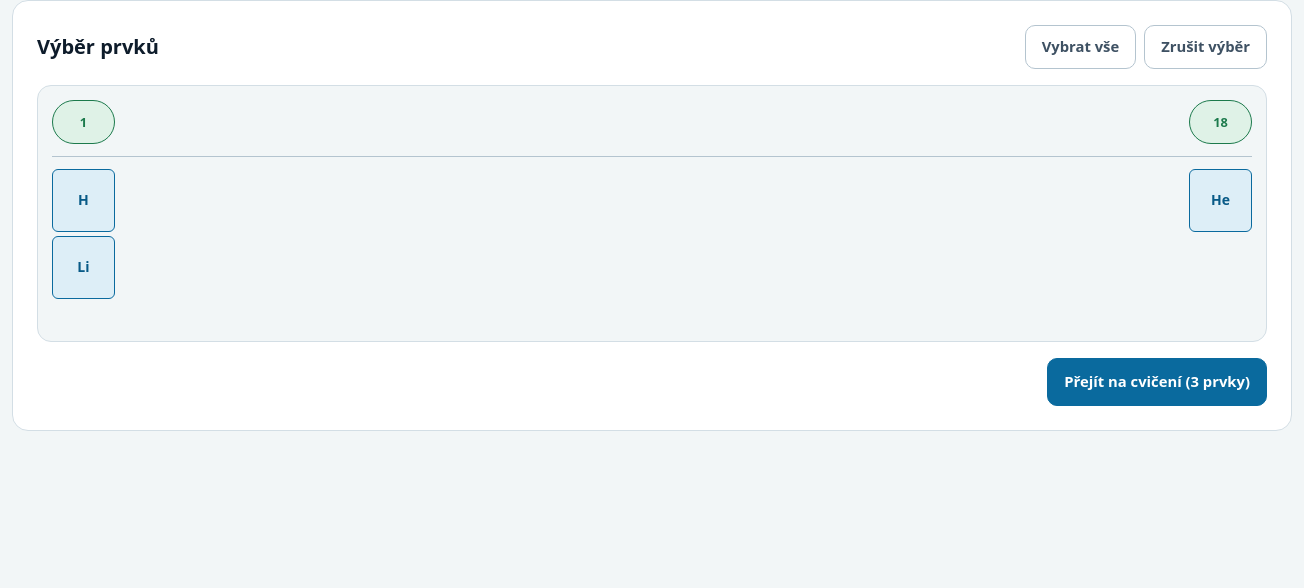
Test case: PeriodicTablePractice › resets the table, the score, and the stopwatch and starts again
This screenshot has width=1304, height=588.
Click the button "Přejít na cvičení (3 prvky)". click: (1157, 382)
box: [1047,358,1267,406]
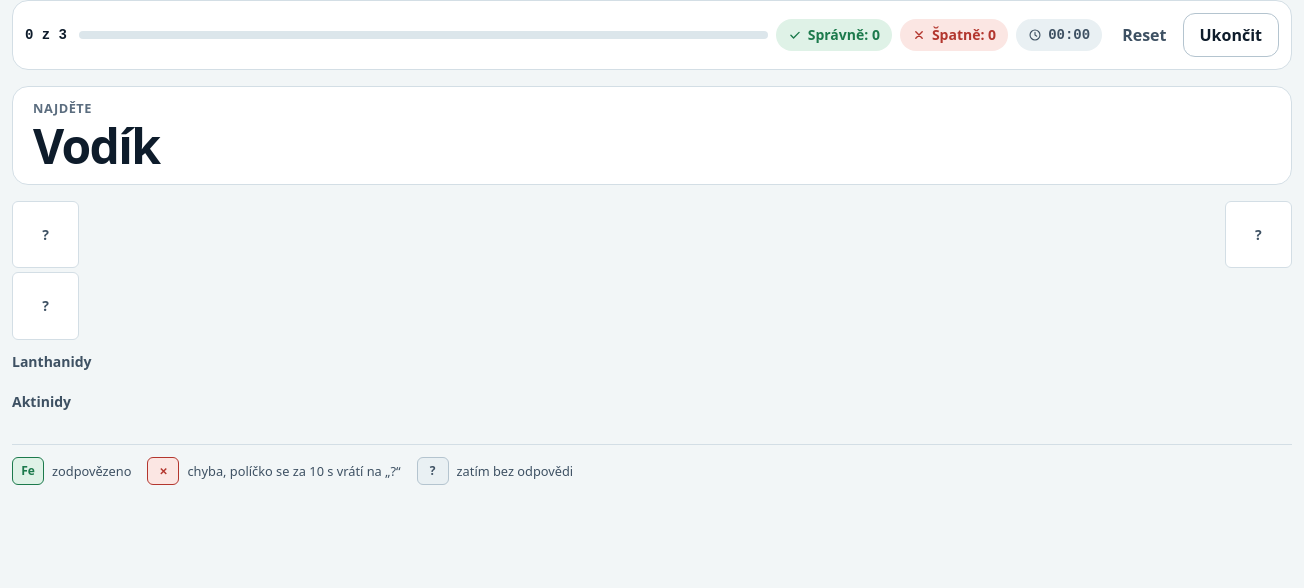
Click the button named "Perioda 1, skupina 1". click: (46, 235)
box: [12,201,79,268]
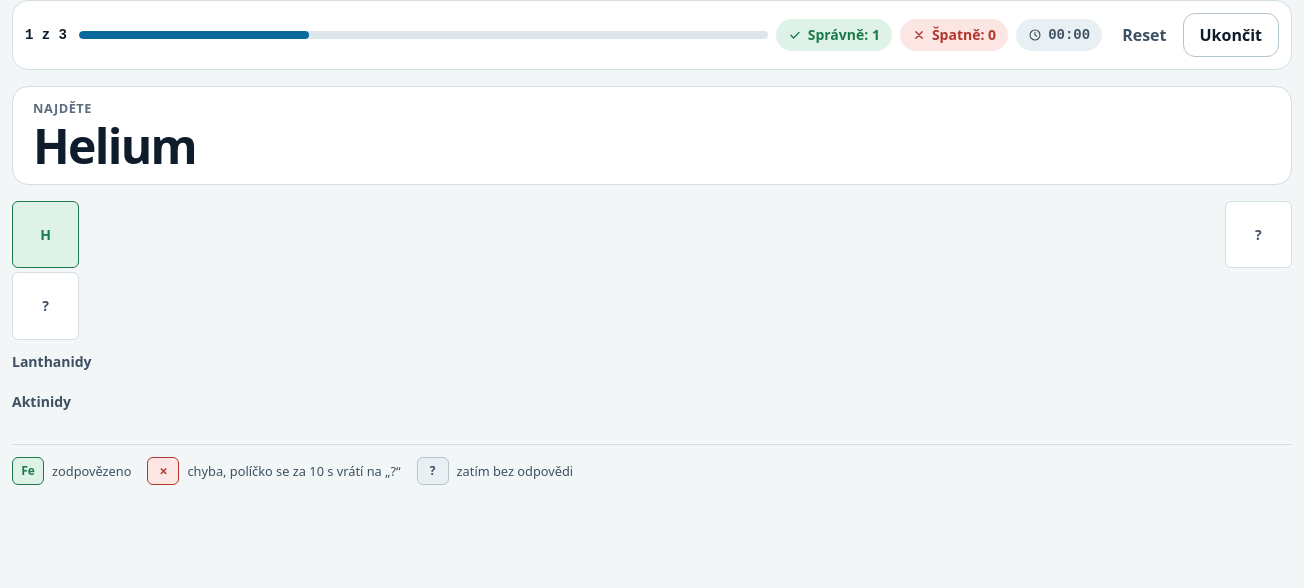
Click the button named "Perioda 2, skupina 1". click: (46, 306)
box: [12,272,79,340]
Wait 12000 ms
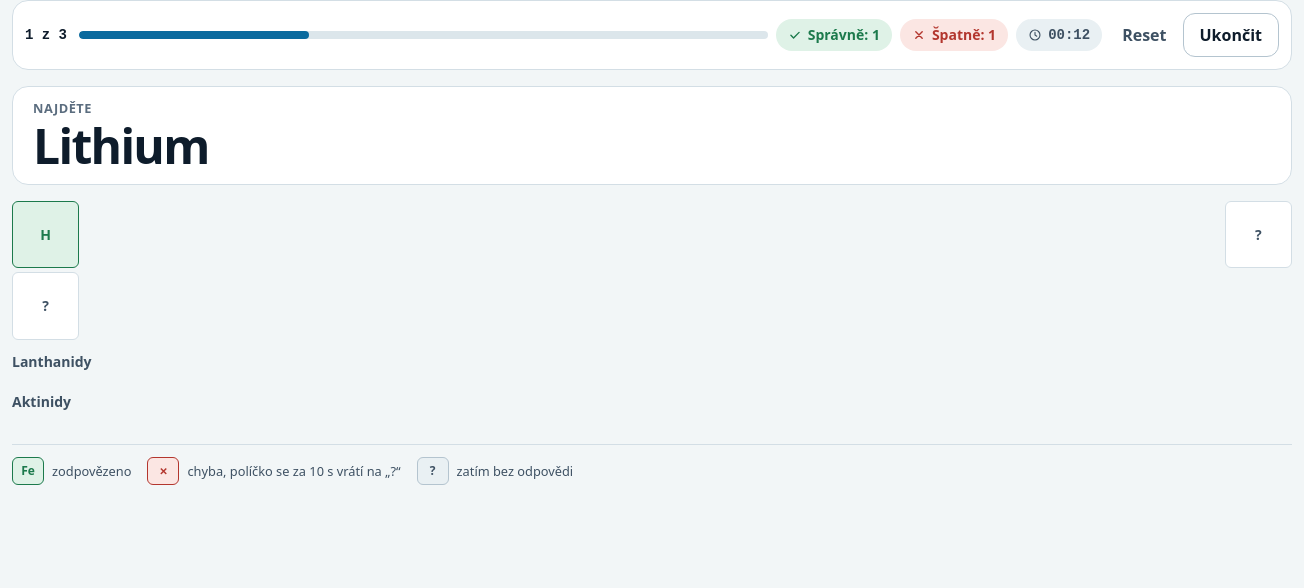
Click the button "Reset". click: (1144, 35)
box: [1110,13,1178,57]
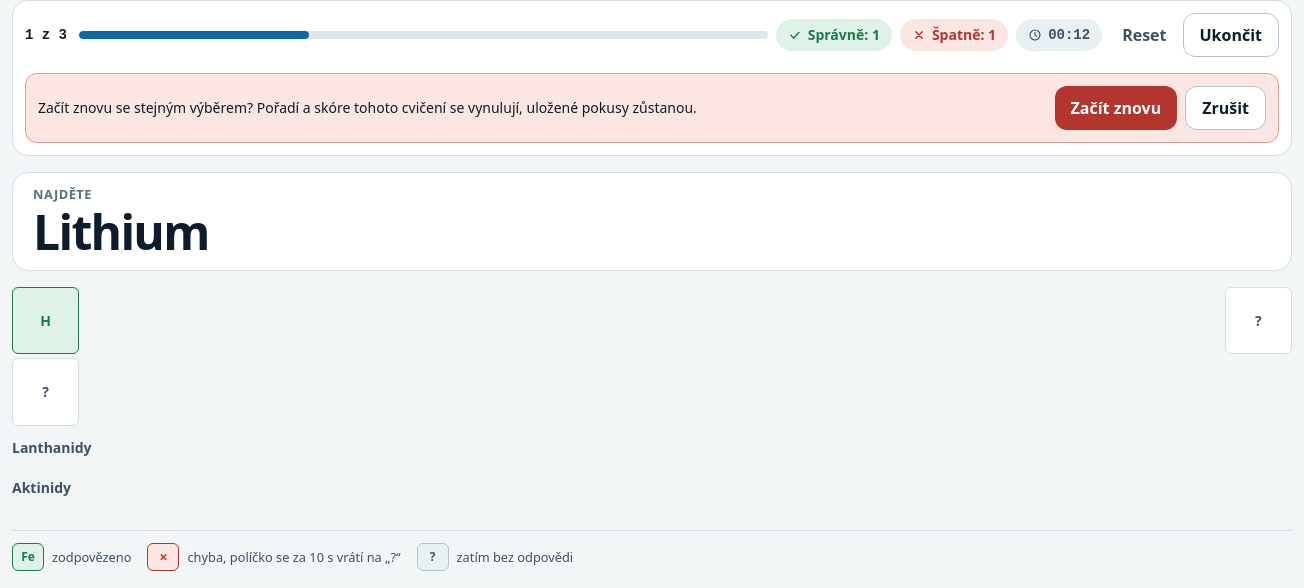
Click the button "Začít znovu". click: (1116, 108)
box: [1054,86,1177,130]
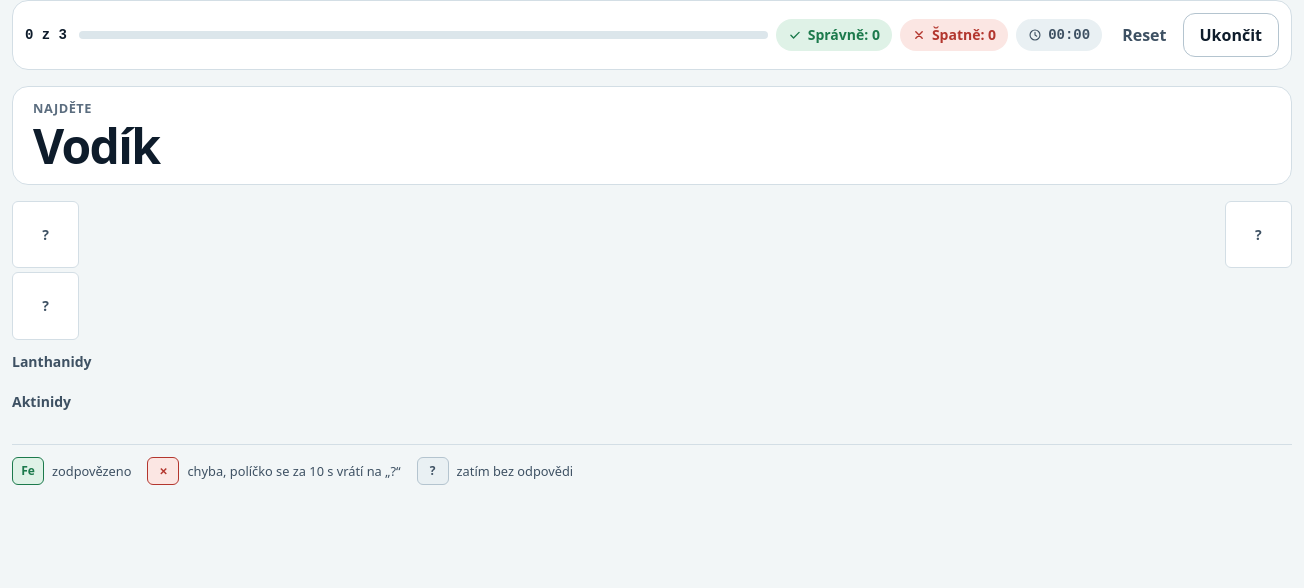
Expected: the text "Správně: 0" is shown, [808,25,880,45]
Expected: the text "Špatně: 0" is shown, [932,25,996,45]
Expected: the text "00:00" is shown, [1048,25,1090,45]
